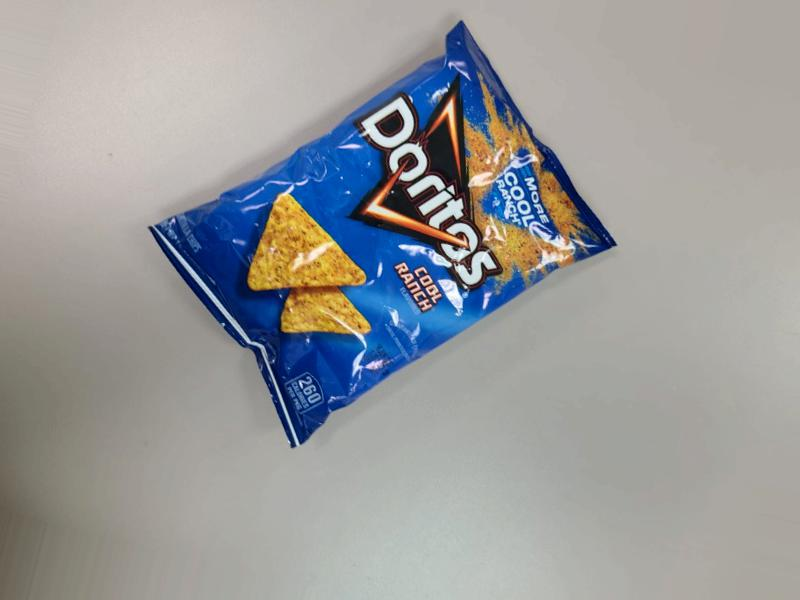doritos: (127, 112, 601, 500)
